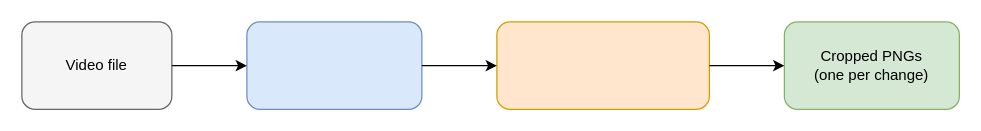
This 981x131 diagram has some shape labels left out. Each missing label, with the centre of its shape:
"Claude reads all frames, finds crop, compares" goes at (602,65).
"ffmpeg 1 fps export (2,700 PNGs)" goes at (334,65).
